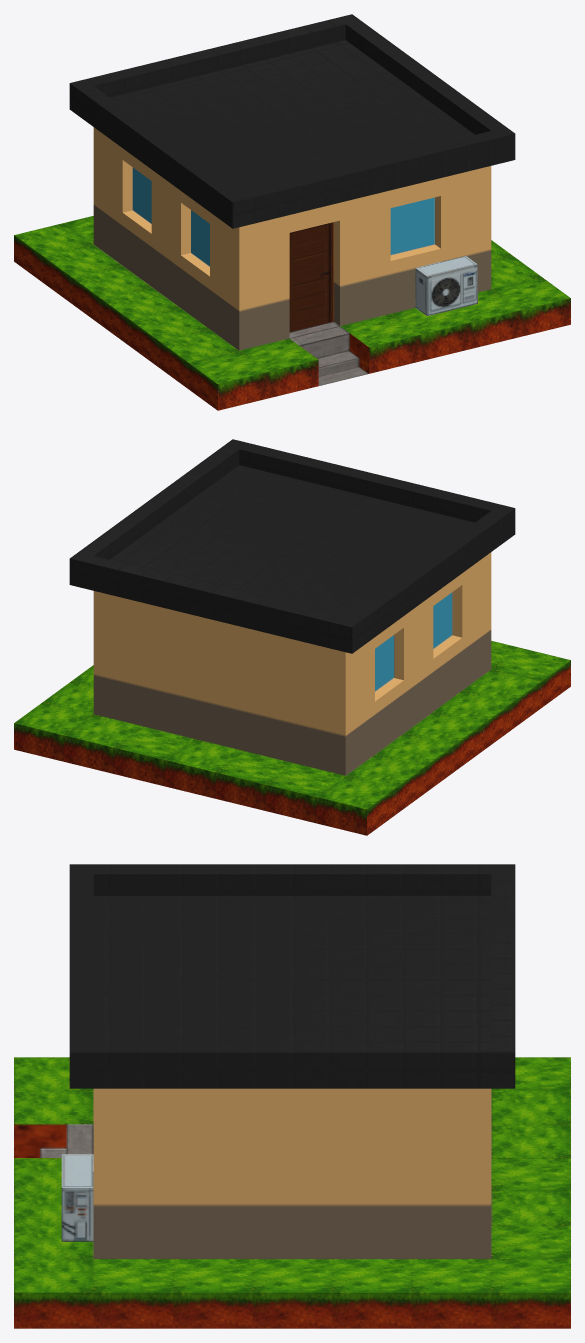
Rendered from rumah 2.fbx.
3 renders of one model, top to bottom at view 1: azimuth 30°, elevation 25°; view 2: azimuth 150°, elevation 25°; view 3: azimuth 270°, elevation 25°, orthographic. The views are drawn at different scales.
Parts seen in each view (by area): view 1: fix.001; view 2: fix.001; view 3: fix.001.
Boxes of the visible parts, x1,y1,x2,y2 form: fix.001: [14, 14, 570, 410]; fix.001: [14, 439, 570, 835]; fix.001: [14, 864, 570, 1328].
Bounding box in the file's own units: 700 × 700 × 350.
Materials: 1 (1 with a texture image).
